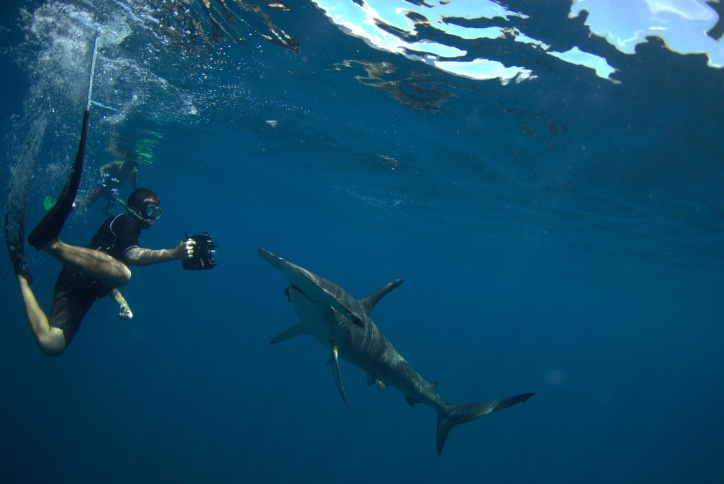Hammer: (249, 231, 565, 464)
